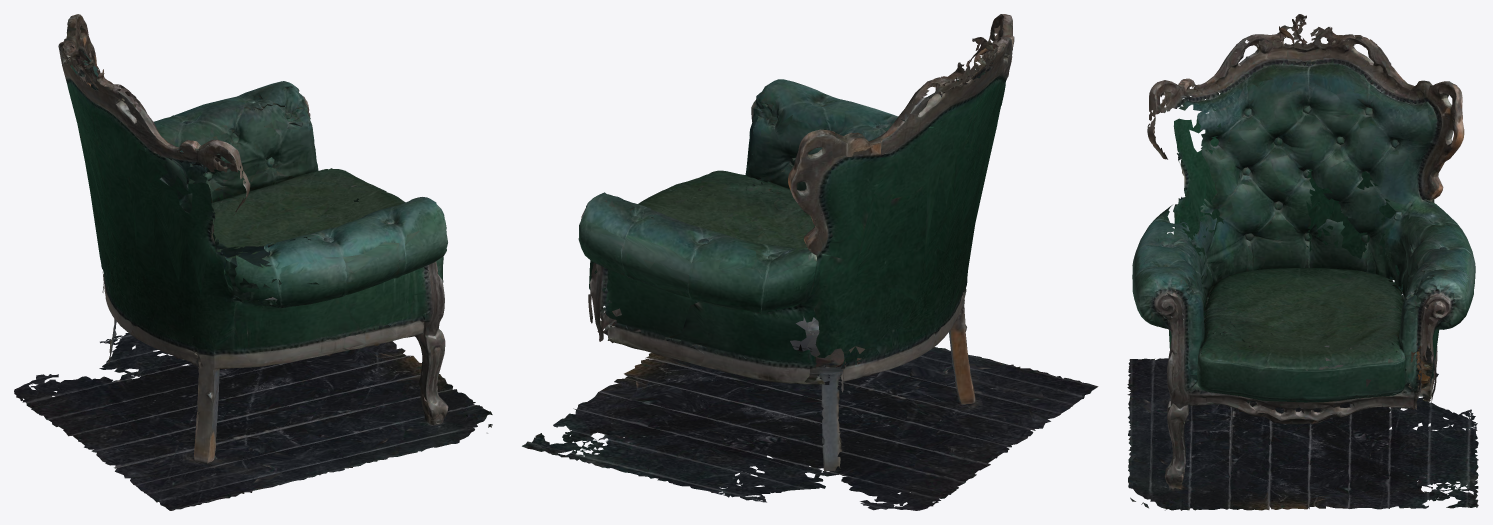
The model's file is armchair-k3.glb.
3 views of the same model, side by side, from view 1: azimuth 30°, elevation 25°; view 2: azimuth 150°, elevation 25°; view 3: azimuth 270°, elevation 25° (orthographic). The views are drawn at different scales.
Parts seen in each view (by area): view 1: armchair-k3; view 2: armchair-k3; view 3: armchair-k3.
Part boxes in pixels (x1,y1,x2,y2): armchair-k3: [14, 14, 492, 510]; armchair-k3: [522, 14, 1098, 510]; armchair-k3: [1127, 14, 1478, 510].
Size of the model in its own units: 1.02 by 1.11 by 0.9963.
1 material, 1 textured.
